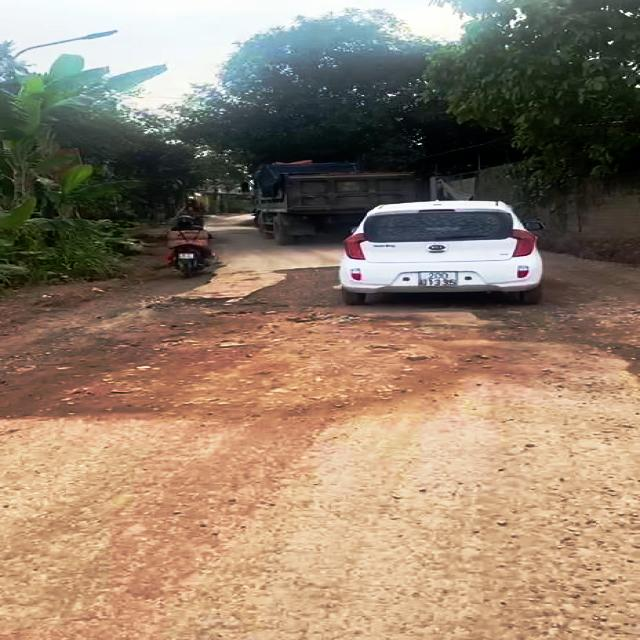pothole: (0, 313, 439, 419), (383, 300, 640, 369), (145, 264, 356, 322)
